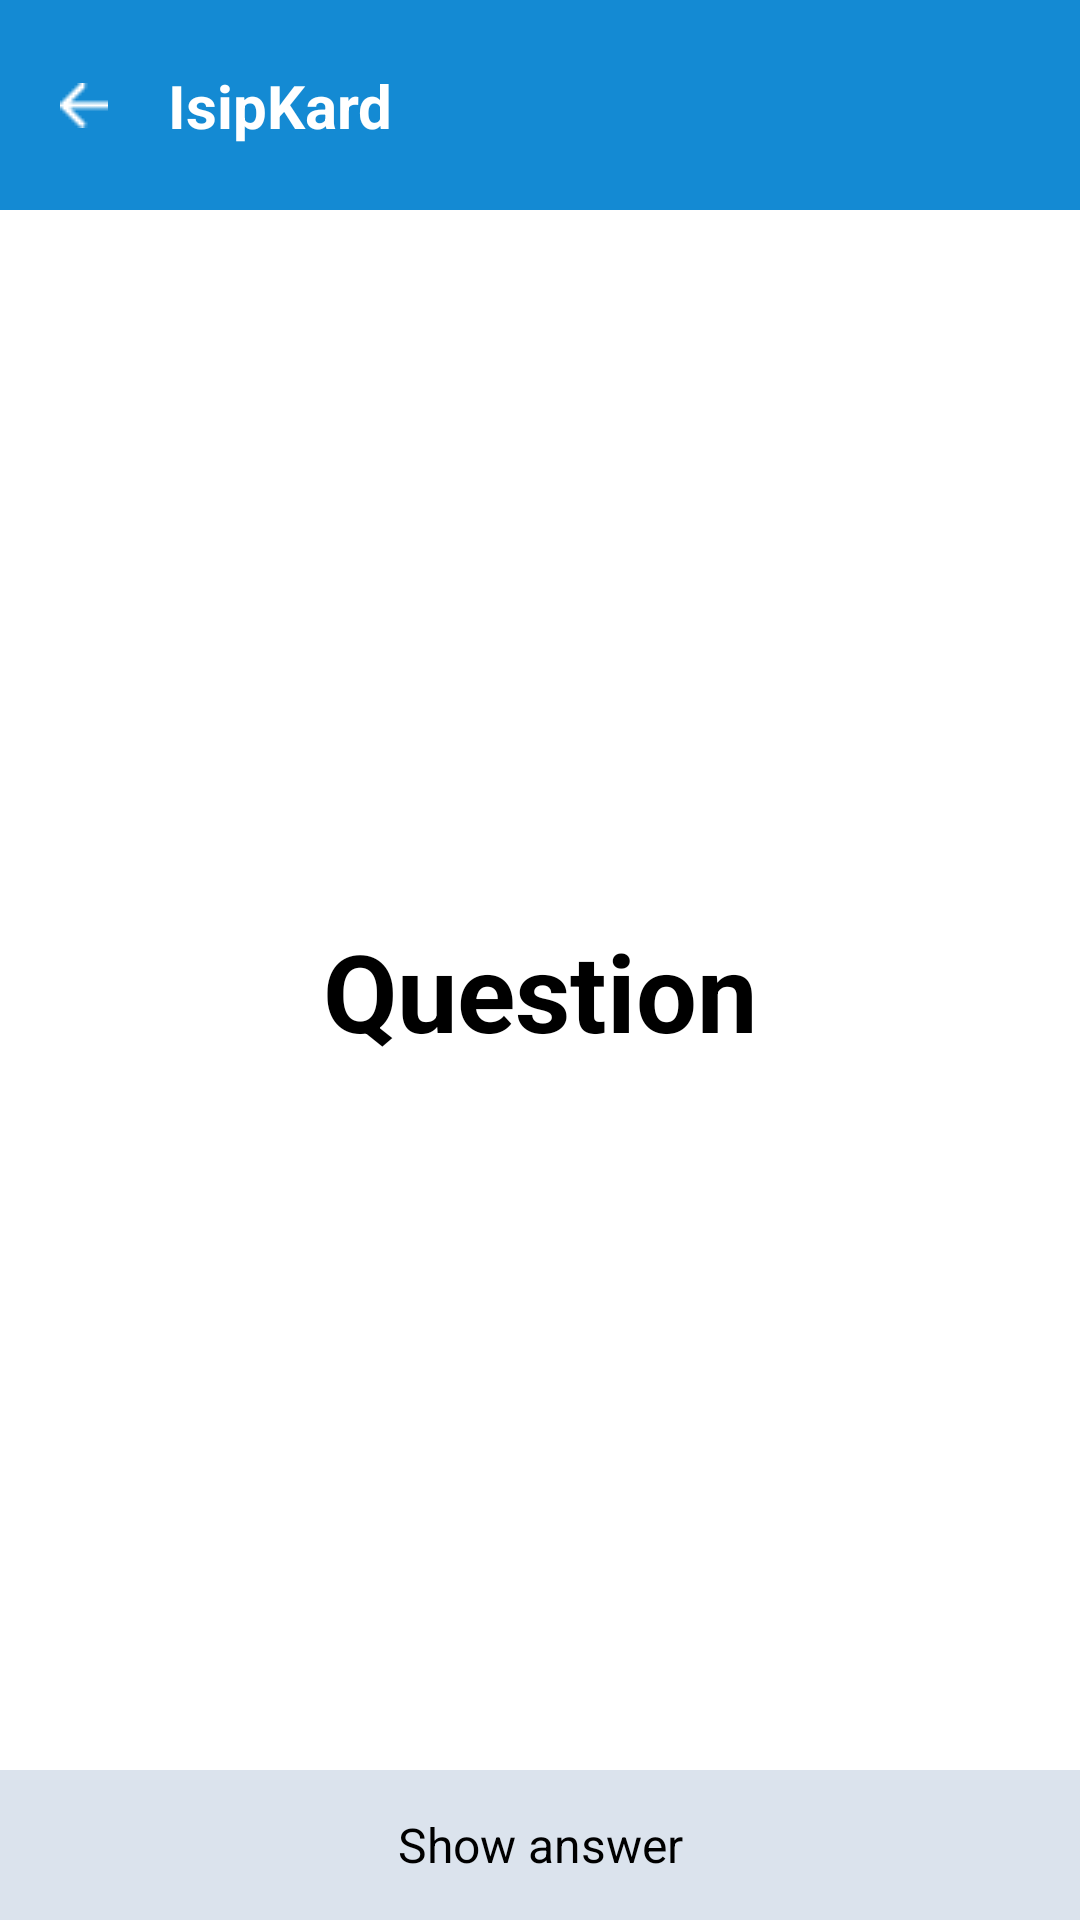

Where icons sit on this 1080 x 1920 app screen, as (x1, y1, x2, y2):
back: (60, 83, 108, 128)
